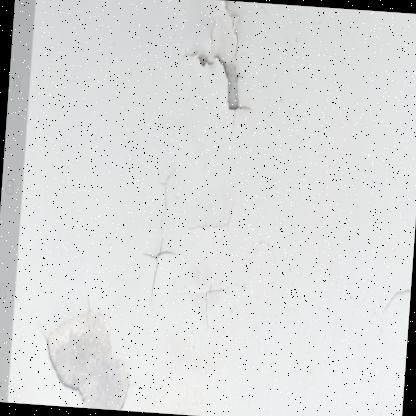Crack: (134, 150, 245, 354), (169, 0, 261, 140), (33, 294, 136, 410), (376, 252, 412, 314)
